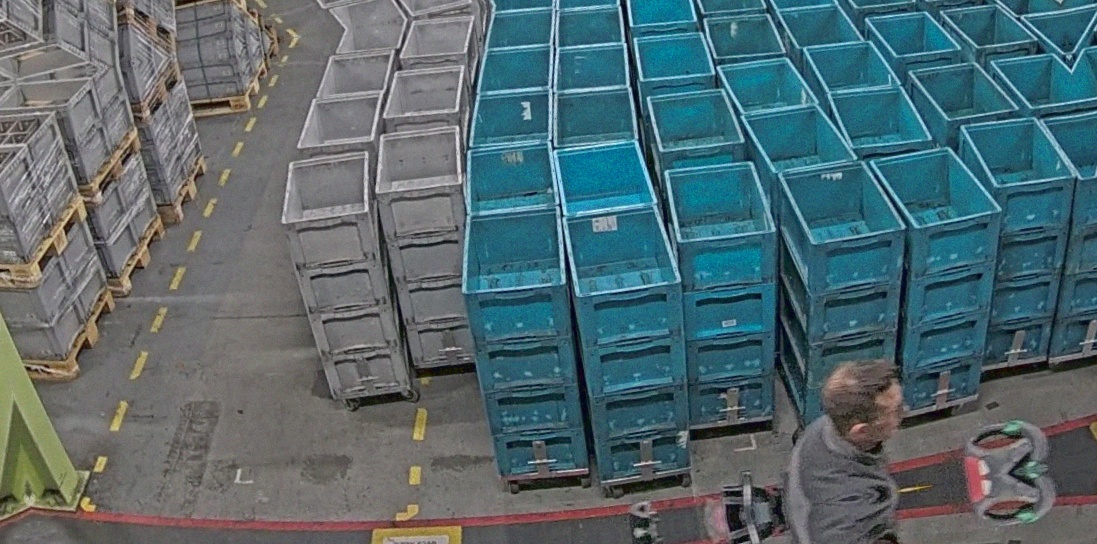4G: (270, 147, 411, 405), (365, 121, 498, 371)
B4: (754, 151, 936, 430), (856, 139, 1032, 416), (448, 199, 604, 485), (559, 198, 712, 483), (649, 155, 808, 429), (943, 107, 1097, 368)
